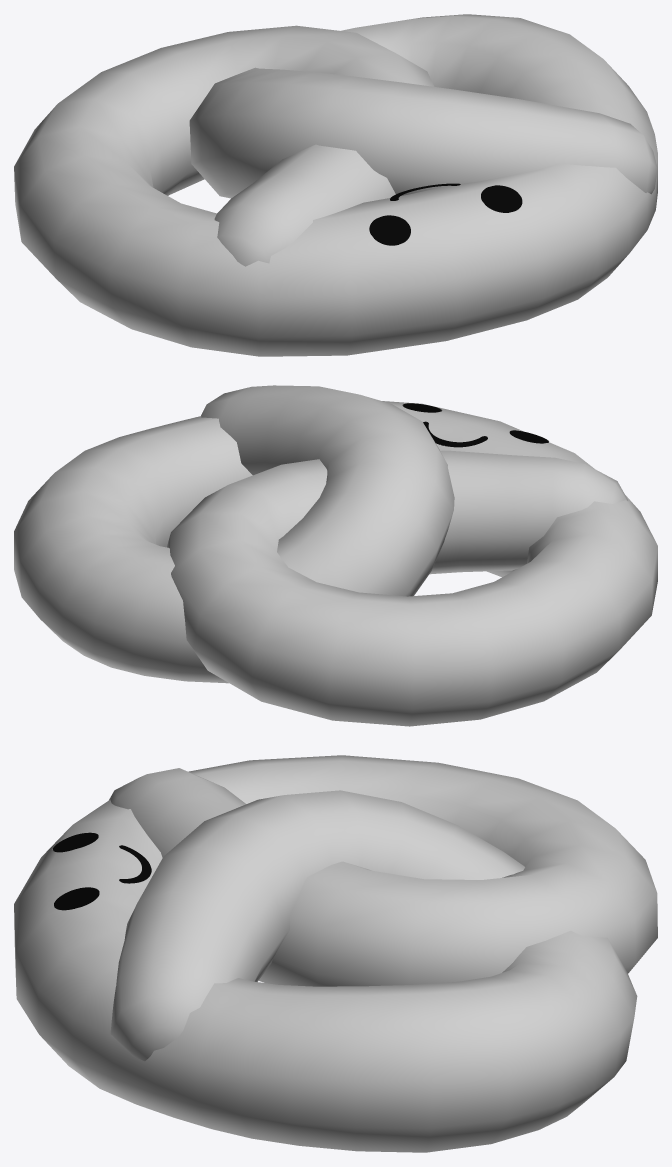
The model's file is bun_smile.fbx.
The picture shows the model from 3 angles, top to bottom: view 1: azimuth 30°, elevation 25°; view 2: azimuth 150°, elevation 25°; view 3: azimuth 270°, elevation 25°; orthographic projection. The views are drawn at different scales.
Parts seen in each view (by area): view 1: bun_smile; view 2: bun_smile; view 3: bun_smile.
Boxes of the visible parts, left/top/right/bottom form: bun_smile: left=14, top=14, right=657, bottom=356; bun_smile: left=14, top=385, right=657, bottom=726; bun_smile: left=14, top=755, right=657, bottom=1152.
Size of the model in its own units: 94.6 by 29.45 by 81.98.
Materials: 2 (1 with a texture image).
